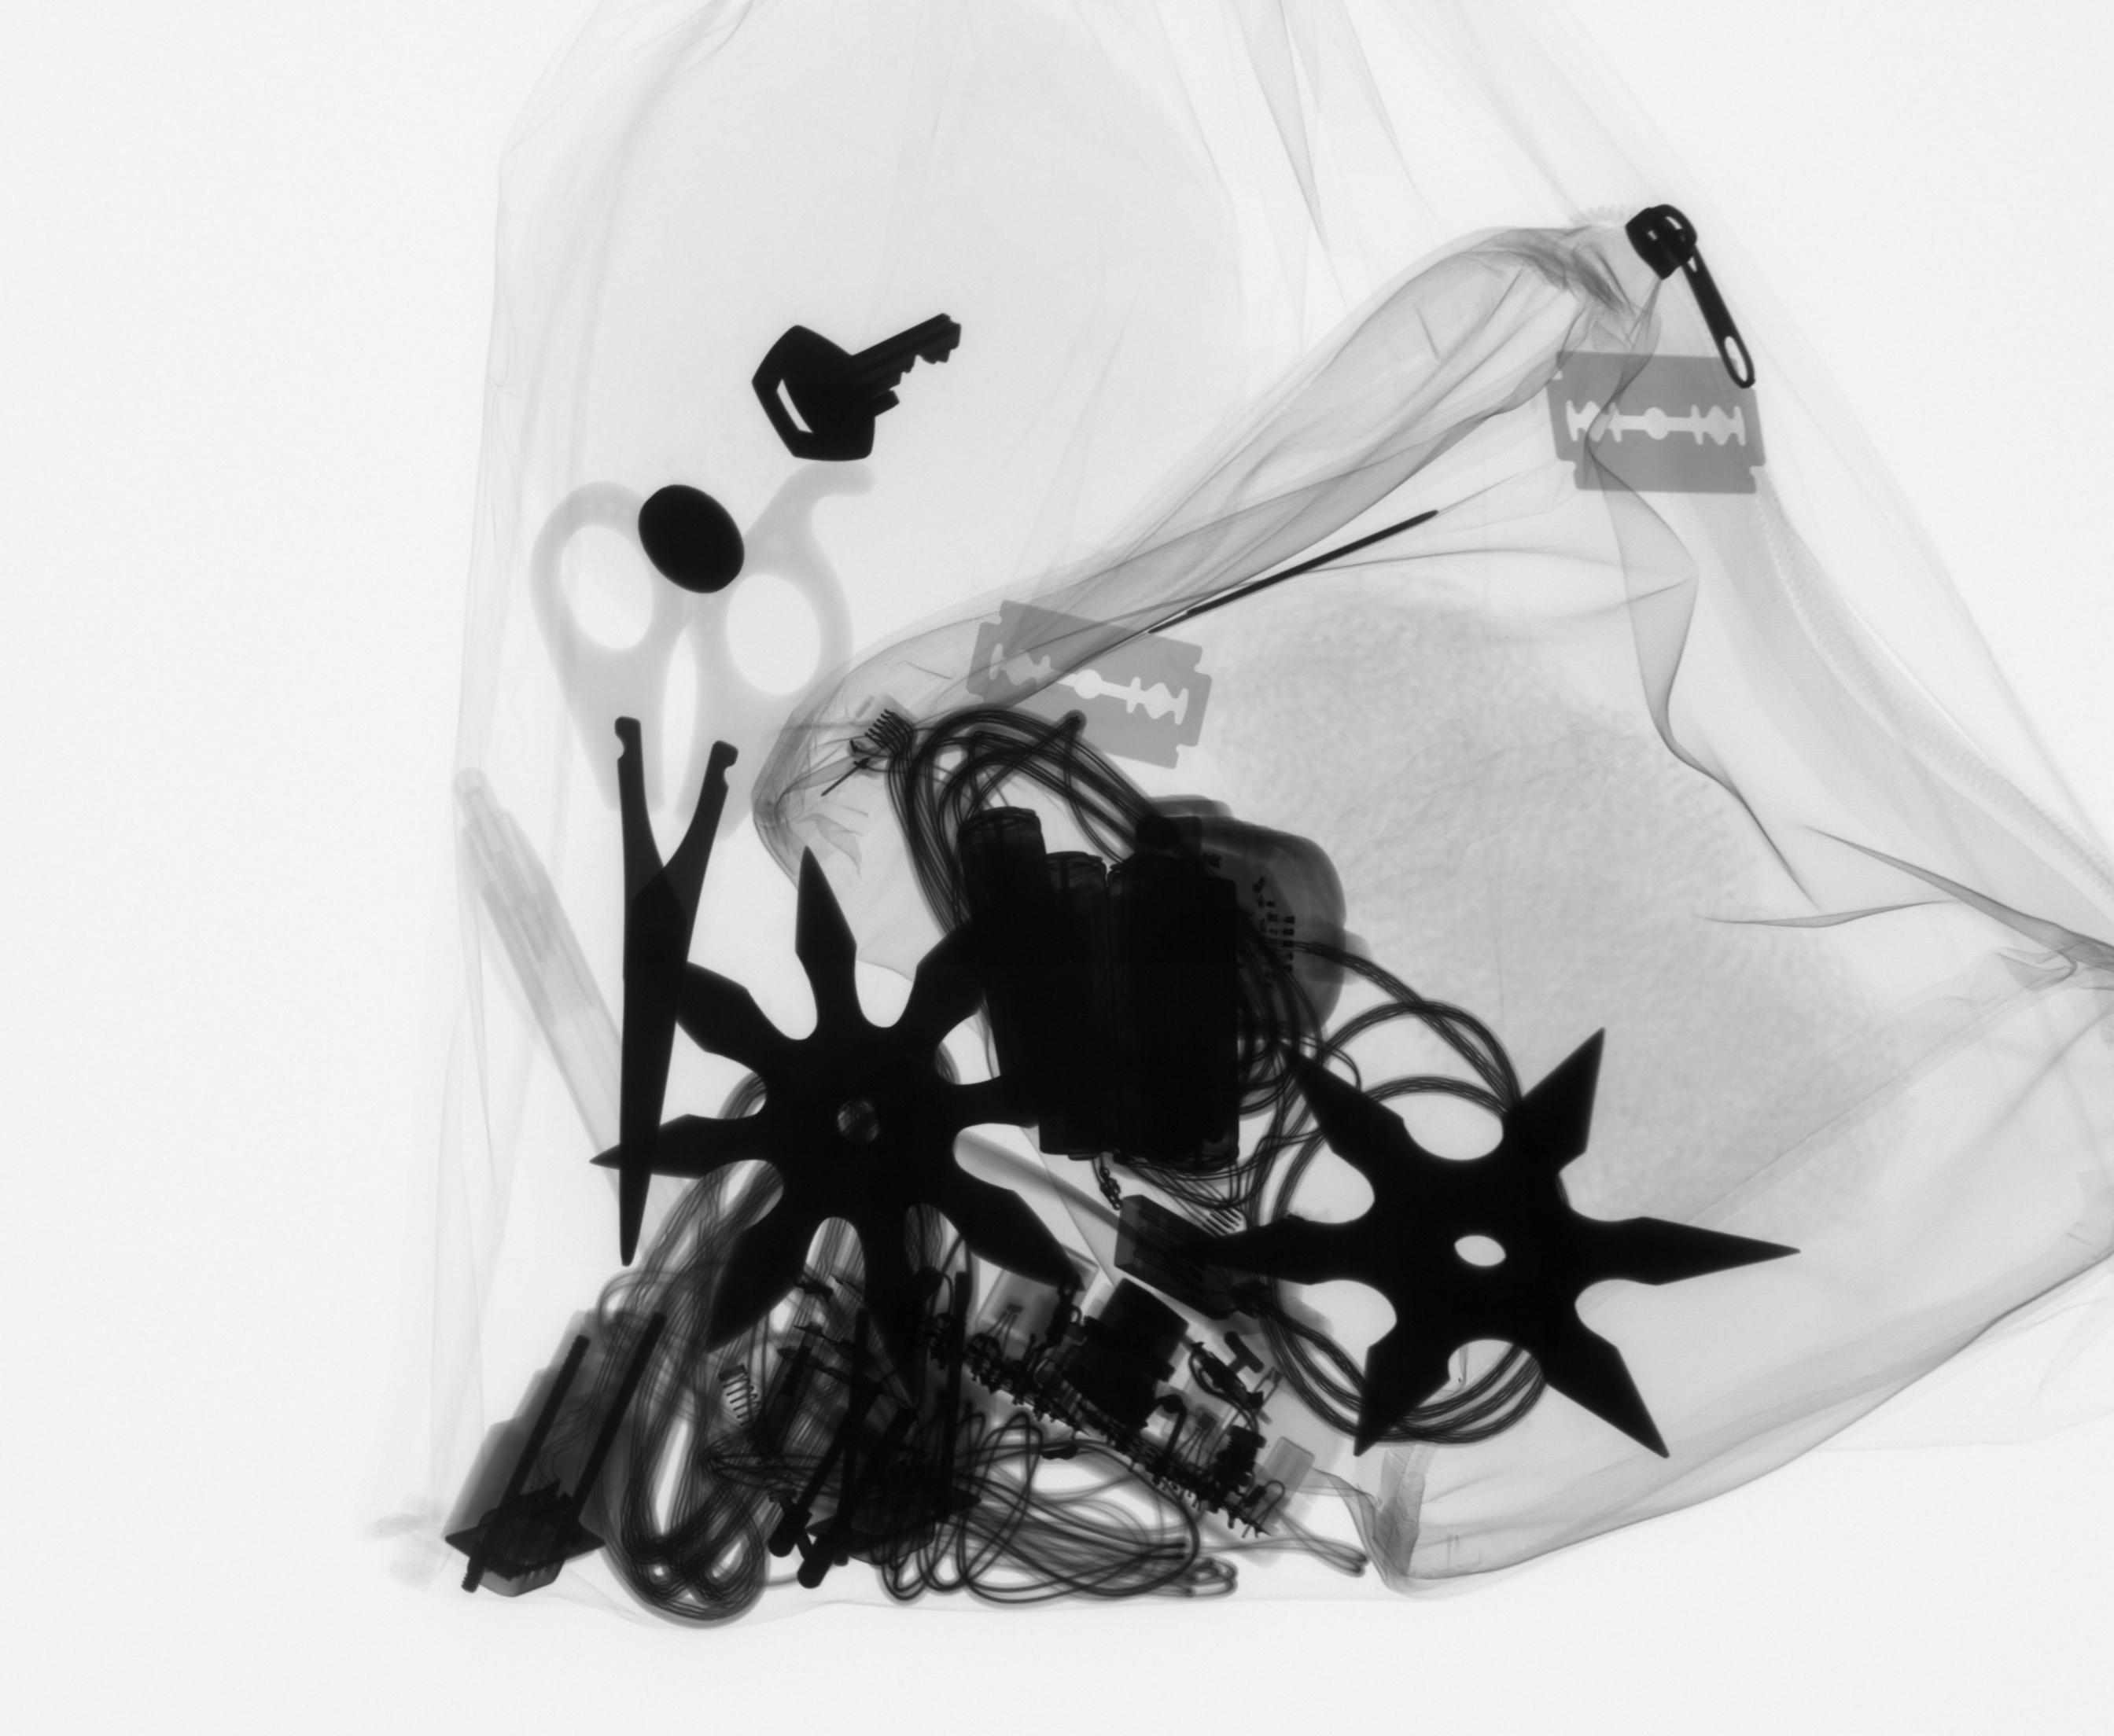RazorBlade: (959, 593, 1224, 786), (1536, 342, 1787, 523)
Shuriken: (1255, 1009, 1816, 1469), (588, 837, 1108, 1313)
